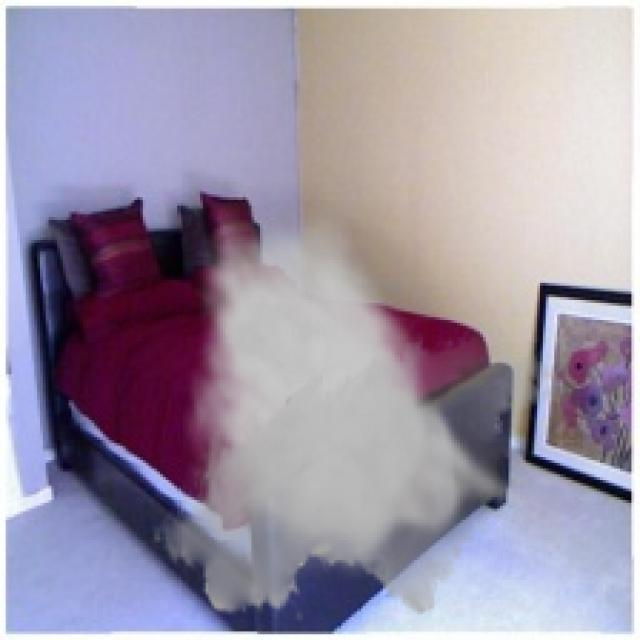Smoke: (151, 203, 563, 626)
